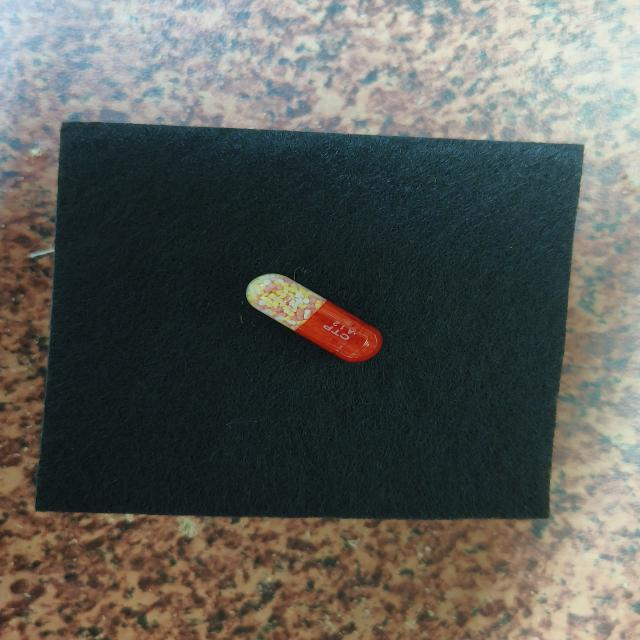Intact Capsule: (246, 273, 383, 362)
